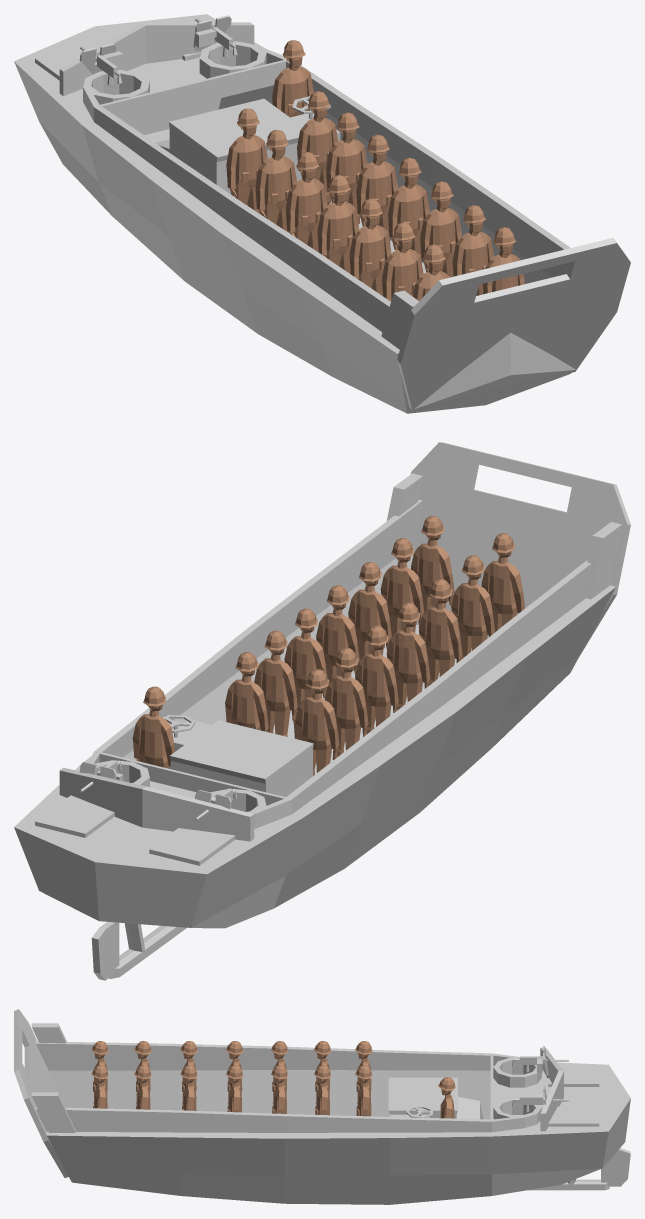
File: lvcp.fbx
3 views of the same model, one above another, from view 1: azimuth 30°, elevation 25°; view 2: azimuth 150°, elevation 25°; view 3: azimuth 270°, elevation 25° (orthographic). The views are drawn at different scales.
Visible parts, largest first — view 1: LVCP-base, LVCP-soldiers, LVCP-door; view 2: LVCP-base, LVCP-soldiers, LVCP-door, LVCP-rudder; view 3: LVCP-base, LVCP-soldiers, LVCP-door, LVCP-rudder.
Part boxes in pixels (x1=…): LVCP-base: x1=14, y1=14, x2=570, y2=413; LVCP-soldiers: x1=226, y1=40, x2=524, y2=301; LVCP-door: x1=397, y1=238, x2=630, y2=411; LVCP-base: x1=14, y1=473, x2=621, y2=978; LVCP-soldiers: x1=132, y1=516, x2=524, y2=775; LVCP-door: x1=410, y1=442, x2=630, y2=655; LVCP-rudder: x1=91, y1=922, x2=119, y2=980; LVCP-base: x1=31, y1=1023, x2=630, y2=1204; LVCP-soldiers: x1=91, y1=1041, x2=455, y2=1118; LVCP-door: x1=14, y1=1009, x2=68, y2=1177; LVCP-rudder: x1=601, y1=1148, x2=630, y2=1186.
Bounding box in the file's own units: 3.51 × 3.01 × 11.25.
